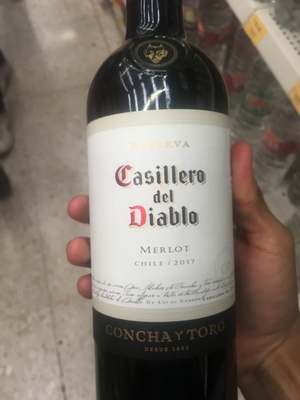casillero del diablo merlot: (80, 16, 241, 390)
